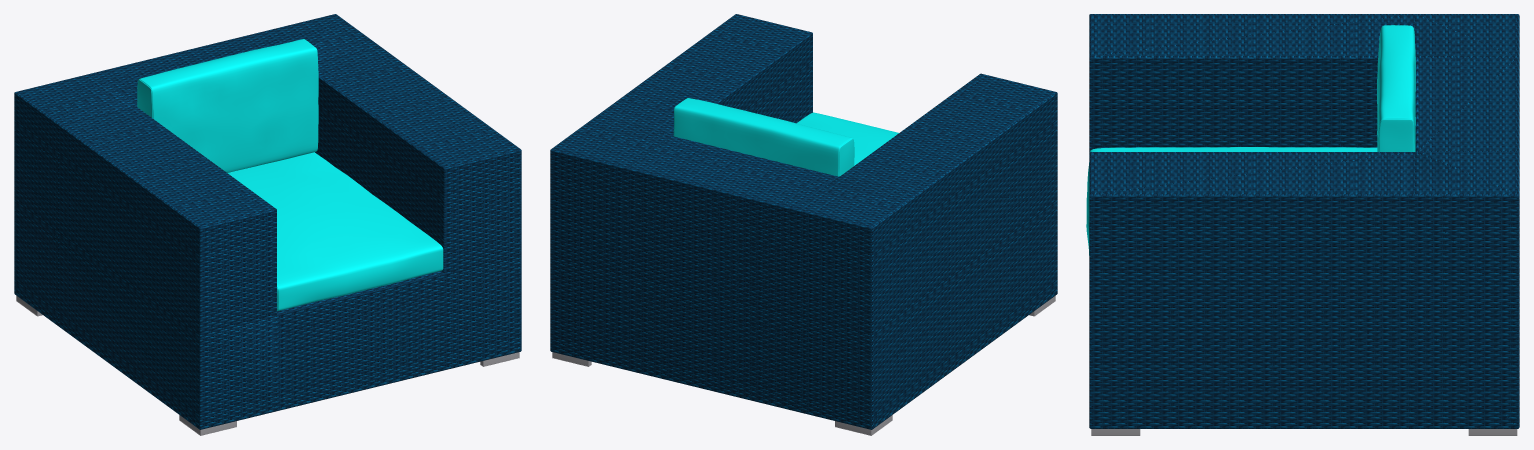
3 views of the same model, side by side, from view 1: azimuth 30°, elevation 25°; view 2: azimuth 150°, elevation 25°; view 3: azimuth 270°, elevation 25° (orthographic). The views are drawn at different scales.
Bounding box in the file's own units: 1.06 × 0.75 × 1.06.
Materials: 3 (3 with a texture image).
